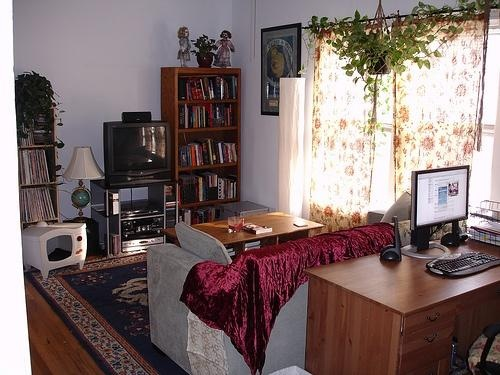pottedplant: (305, 2, 500, 138), (15, 71, 66, 192), (189, 34, 220, 71)
sofa: (146, 196, 458, 375)
tvmonitor: (403, 164, 472, 262), (102, 124, 182, 189)
